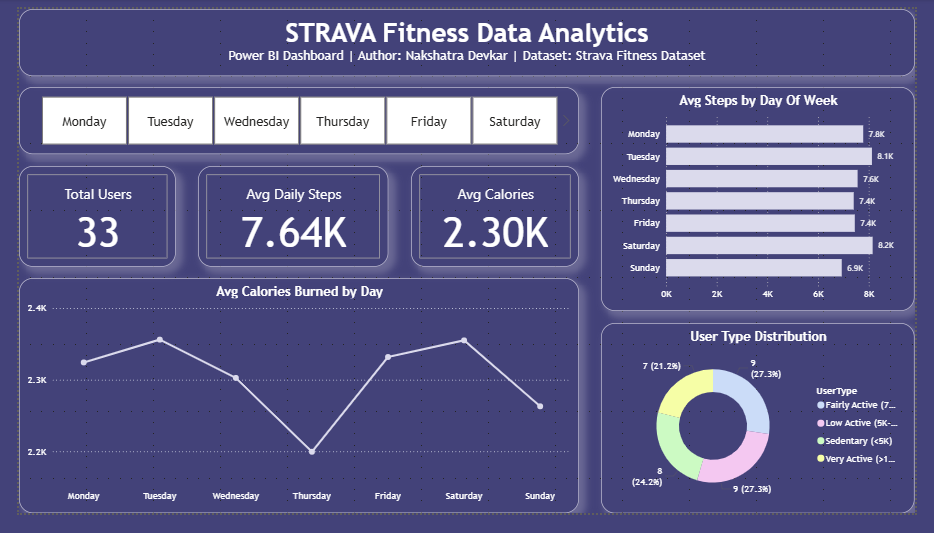

This screenshot's page, from the dashboard's own definition file:
{"tool":"powerbi","page":{"name":"Page 1","canvas":[1280,720],"ordinal":0},"visuals":[{"type":"textbox","box":[0,0,1280,96],"z":0},{"type":"slicer","fields":{"Values":["dailyActivity_merged.DayOfWeek"]},"box":[0,112,800,96],"z":1000},{"type":"cardVisual","fields":{"Data":["dailyActivity_merged.Total Users"]},"box":[0,224,224,144],"z":2000},{"type":"cardVisual","fields":{"Data":["dailySteps_merged.Avg Daily Steps"]},"box":[256,224,272,144],"z":3000},{"type":"cardVisual","fields":{"Data":["dailyCalories_merged.Avg Calories"]},"box":[560,224,240,144],"z":4000},{"type":"clusteredBarChart","title":"Avg Steps by Day Of Week","fields":{"Y":["dailySteps_merged.Avg Daily Steps"],"Category":["dailyActivity_merged.DayOfWeek"]},"box":[832,112,448,320],"z":5000},{"type":"donutChart","title":"User Type Distribution","fields":{"Category":["dailyActivity_merged.UserType"],"Y":["dailyActivity_merged.Total Users"]},"box":[832,448,448,272],"z":6000},{"type":"lineChart","title":"Avg Calories  Burned by Day","fields":{"Category":["dailyActivity_merged.DayOfWeek"],"Y":["dailyCalories_merged.Avg Calories"]},"box":[0,384,800,336],"z":7000}]}

Visuals, with their boxes in screenshot pixels (x1, y1, x2, y2), scaled from the page's 1280x720 canvas onto the 934x533 screenshot:
textbox: select_region(0, 0, 933, 71)
slicer - dailyActivity_merged.DayOfWeek: select_region(0, 83, 584, 154)
cardVisual - dailyActivity_merged.Total Users: select_region(0, 166, 163, 272)
cardVisual - dailySteps_merged.Avg Daily Steps: select_region(187, 166, 385, 272)
cardVisual - dailyCalories_merged.Avg Calories: select_region(409, 166, 584, 272)
"Avg Steps by Day Of Week" clusteredBarChart: select_region(607, 83, 933, 320)
"User Type Distribution" donutChart: select_region(607, 332, 933, 532)
"Avg Calories  Burned by Day" lineChart: select_region(0, 284, 584, 532)
